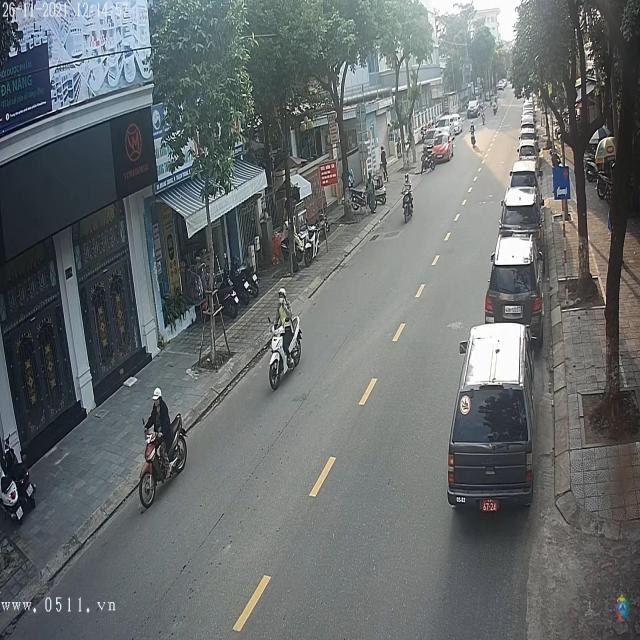car: (448, 321, 534, 510), (485, 232, 544, 332), (500, 189, 542, 237), (506, 161, 537, 198), (518, 144, 536, 162)
motorcycle: (139, 413, 187, 512), (267, 307, 302, 394), (400, 187, 415, 225)
